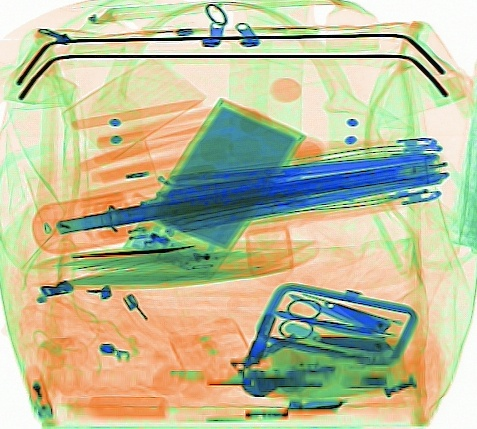lighter: (19, 359, 54, 423)
scissors: (277, 297, 391, 341)
